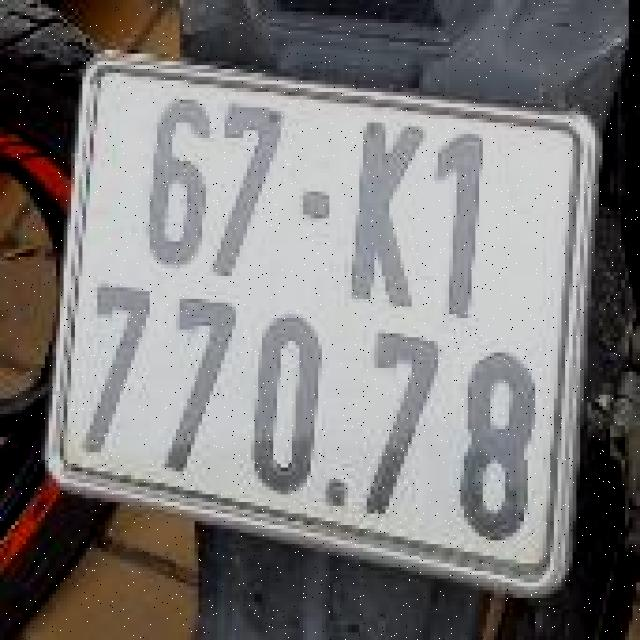0: (249, 318, 324, 494)
1: (429, 123, 492, 322)
6: (144, 92, 215, 264)
7: (365, 320, 443, 523), (172, 293, 240, 481), (86, 282, 157, 450), (210, 102, 277, 274)
8: (458, 349, 548, 552)
K: (339, 101, 421, 312)
